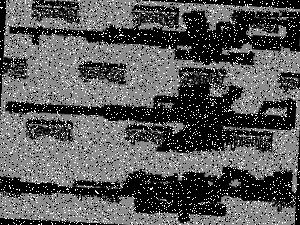sniper: (4, 71, 298, 159), (0, 150, 294, 225), (7, 3, 300, 71)
